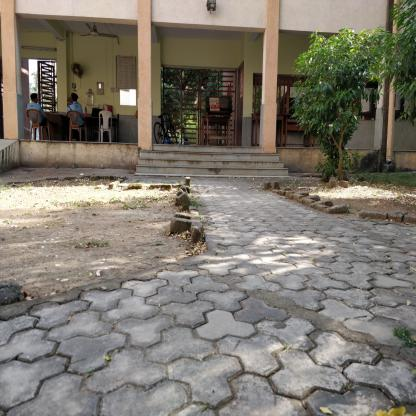stairs: (155, 142, 264, 181)
